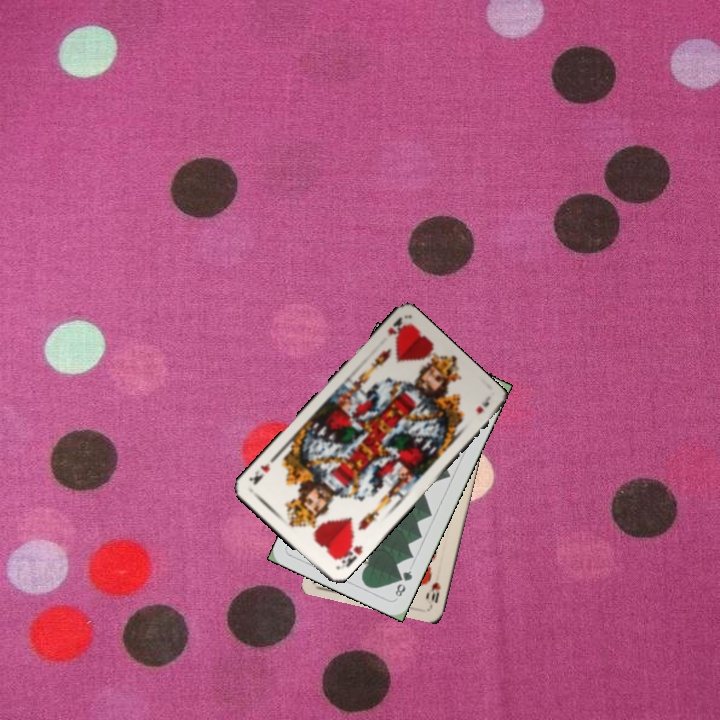G8: (391, 566, 415, 600)
H10: (427, 578, 443, 606)
HK: (332, 536, 365, 570), (383, 314, 410, 341)
